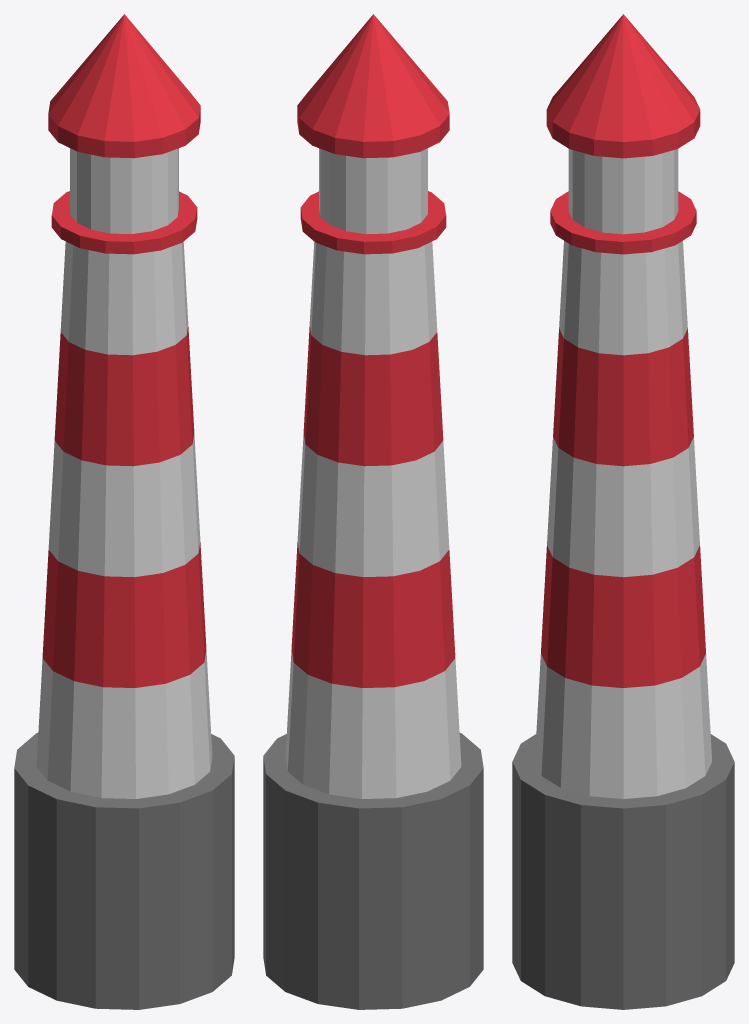
Rendered from lighthouse.fbx.
The picture shows the model from 3 angles, left to right: view 1: azimuth 30°, elevation 25°; view 2: azimuth 150°, elevation 25°; view 3: azimuth 270°, elevation 25°; orthographic projection.
Visible parts, largest first — view 1: LIghthouse; view 2: LIghthouse; view 3: LIghthouse.
Part boxes in pixels (left/top/right/bottom): LIghthouse: left=14, top=14, right=234, bottom=1009; LIghthouse: left=263, top=14, right=483, bottom=1009; LIghthouse: left=512, top=14, right=734, bottom=1009.
Bounding box in the file's own units: 1599 × 7534 × 1599.
